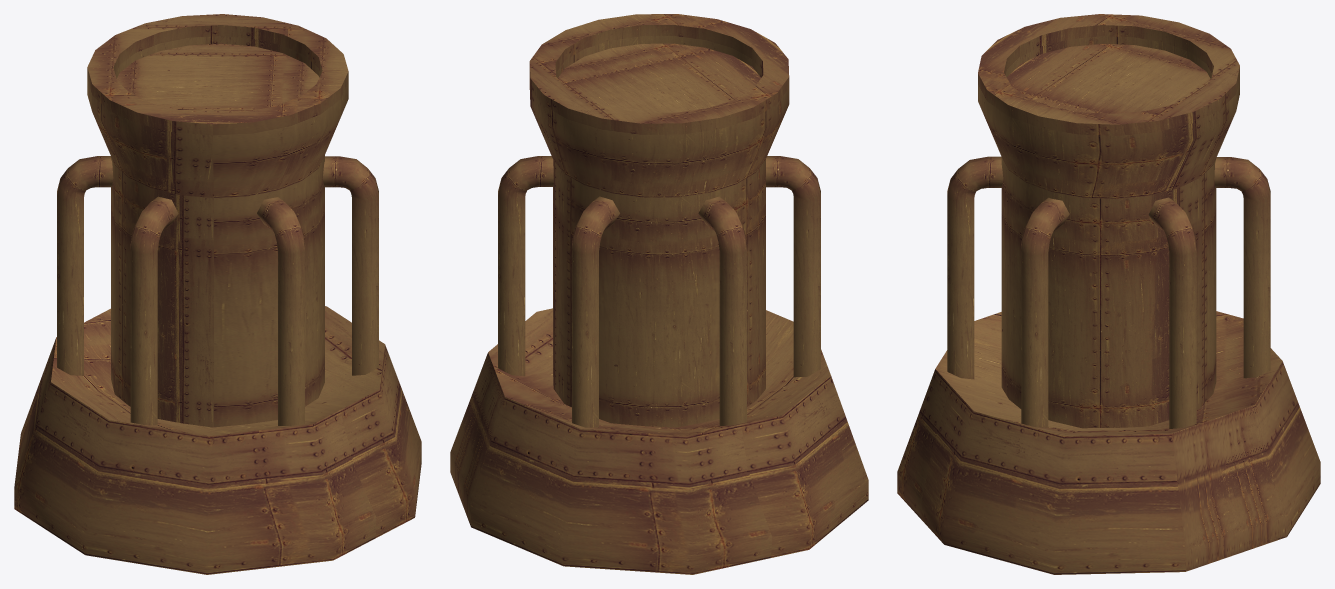
The model's file is SteamBarel1.fbx.
3 views of the same model, side by side, from view 1: azimuth 30°, elevation 25°; view 2: azimuth 150°, elevation 25°; view 3: azimuth 270°, elevation 25° (orthographic).
Visible parts, largest first — view 1: SteamBarel1; view 2: SteamBarel1; view 3: SteamBarel1.
Part boxes in pixels (x1,y1,x2,y2): SteamBarel1: (14,14,421,574); SteamBarel1: (450,14,868,574); SteamBarel1: (897,14,1320,574).
Bounding box in the file's own units: 25.74 × 29.03 × 26.6.
Materials: 1 (1 with a texture image).
